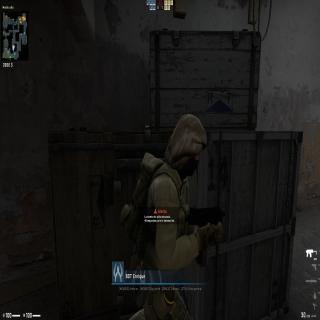CT-Head: (170, 114, 205, 179)
